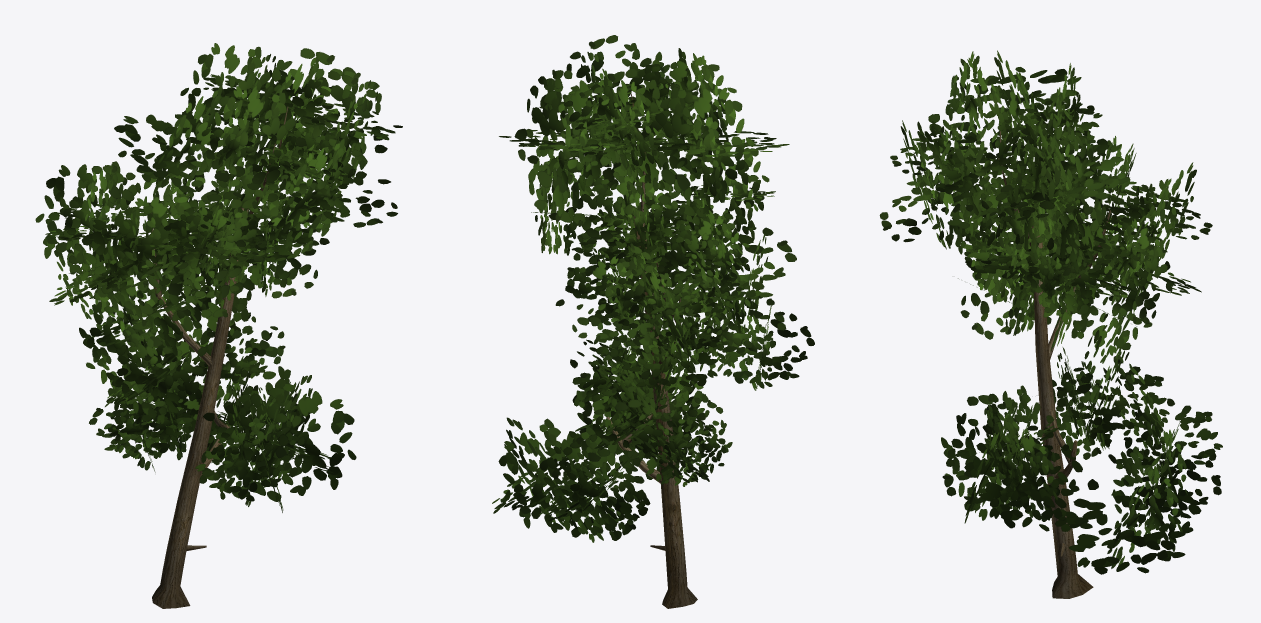
File: env_tree_young_01.glb
The picture shows the model from 3 angles, left to right: view 1: azimuth 30°, elevation 25°; view 2: azimuth 150°, elevation 25°; view 3: azimuth 270°, elevation 25°; orthographic projection. The views are drawn at different scales.
Parts seen in each view (by area): view 1: tree_young_01; view 2: tree_young_01; view 3: tree_young_01.
Part boxes in pixels (x1,y1,x2,y2): tree_young_01: (35,43,402,608); tree_young_01: (492,35,814,608); tree_young_01: (879,50,1222,598).
Size of the model in its own units: 2.11 by 3.4 by 2.02.
Materials: 2 (2 with a texture image).
